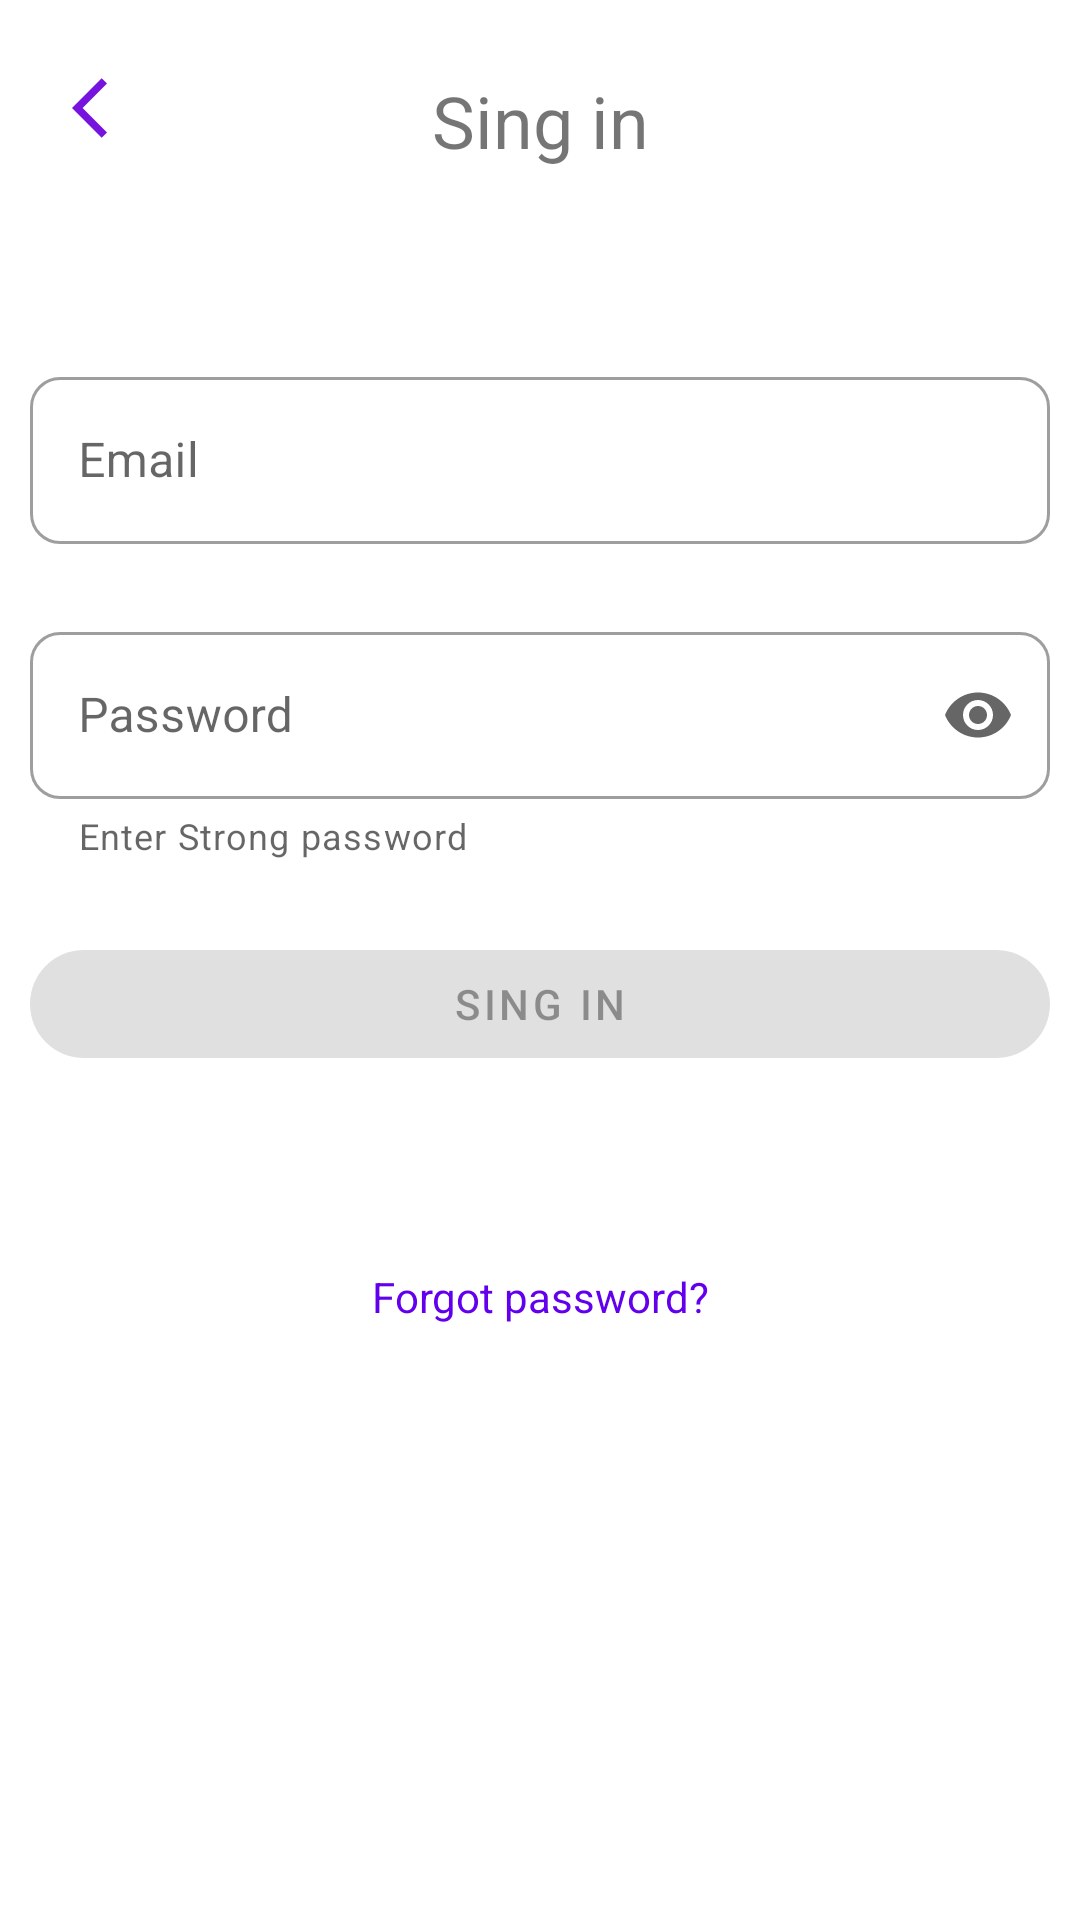

Where to tap for icons on this 1080px x 1920px app screen, as point (x, y):
arrow back: point (89, 108)
